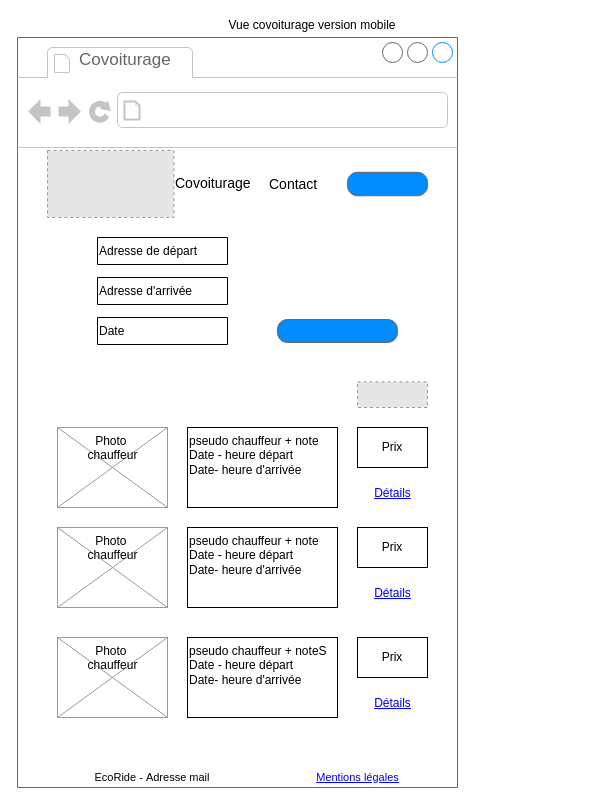
The diagram is 615 pixels wide and 809 high, and some of its shapes have lost their labels. Grey dashed boxes stand in for pictures. Here are the shapes that lost their labels. From the top down, the centre of each, then its label:
At (x=272, y=108): "https://www.EcoRide.com".
At (x=387, y=183): "Connexion".
At (x=337, y=330): "Rechercher".
